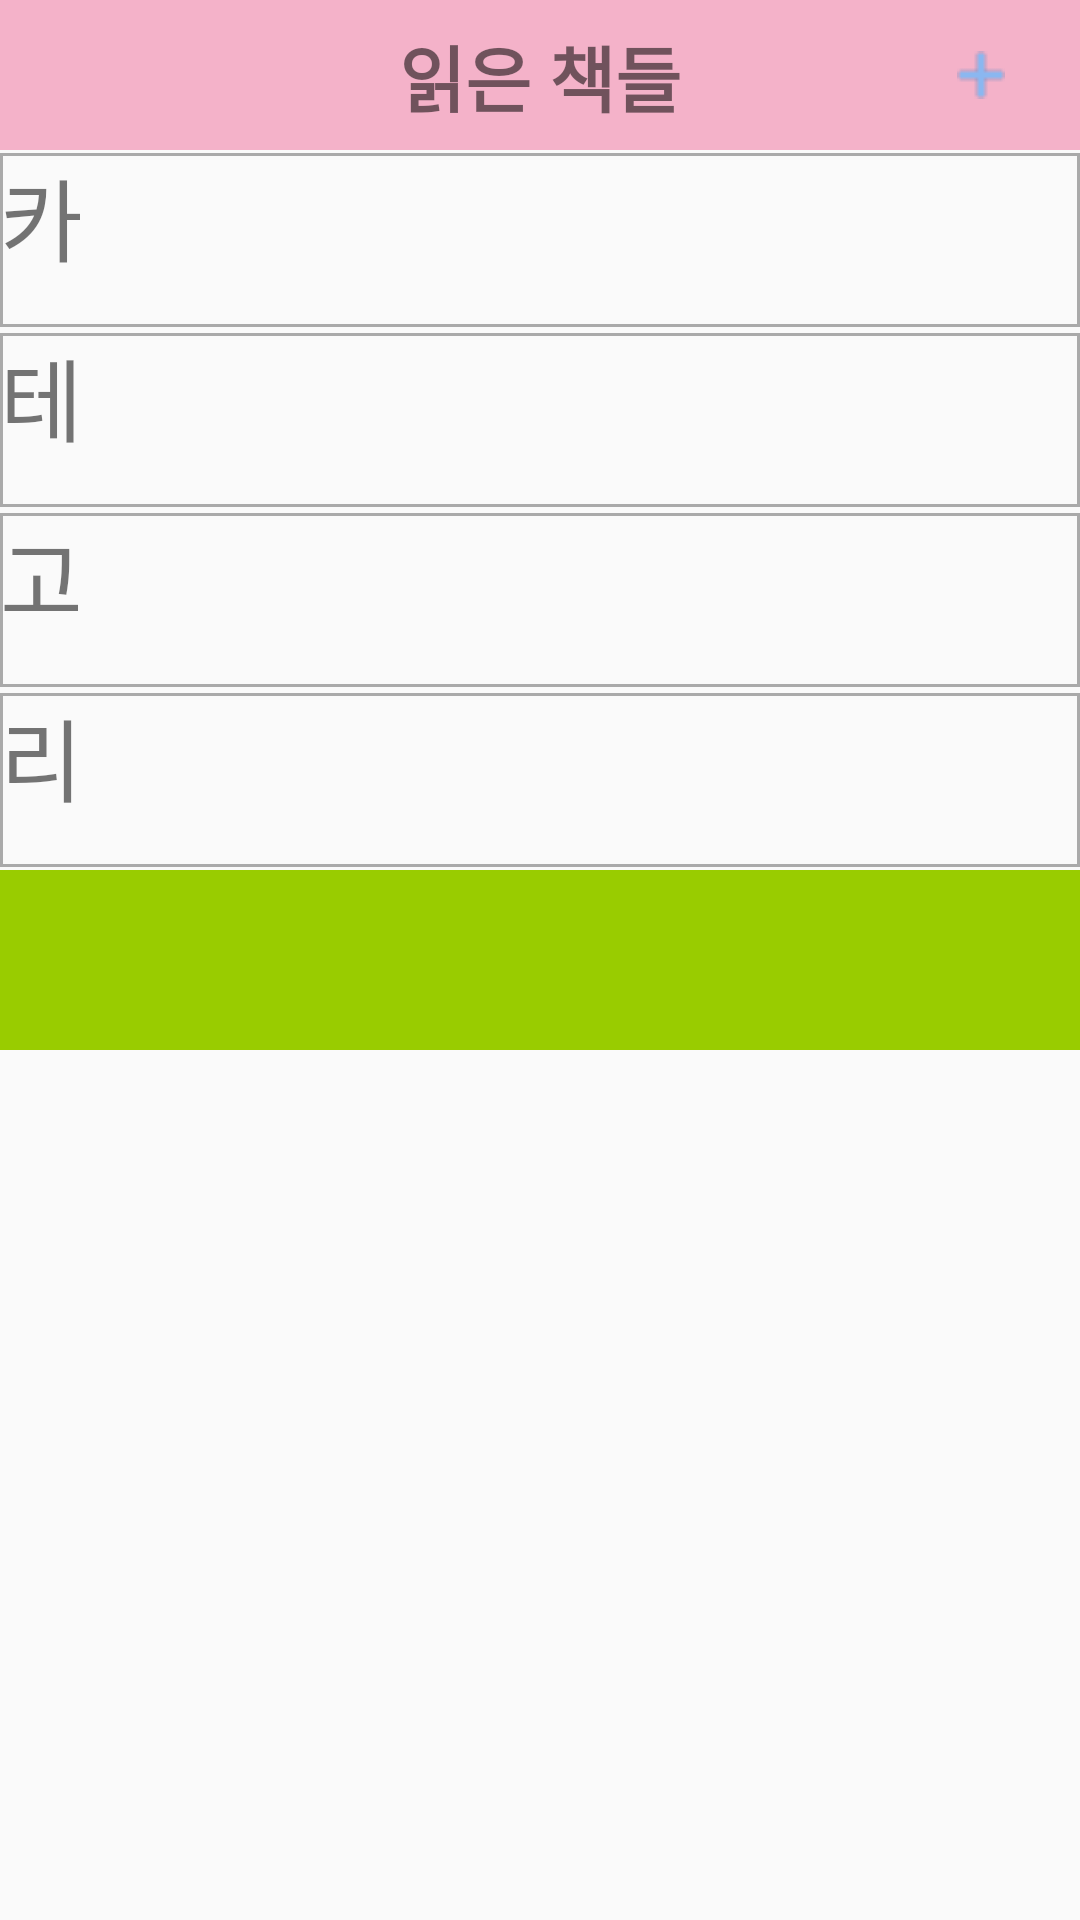

Locate icon controls on the screen. Image size 1080 × 1920, boxes as (x1, y1, x2, y2).
plus skyblue: (957, 51, 1005, 99)
